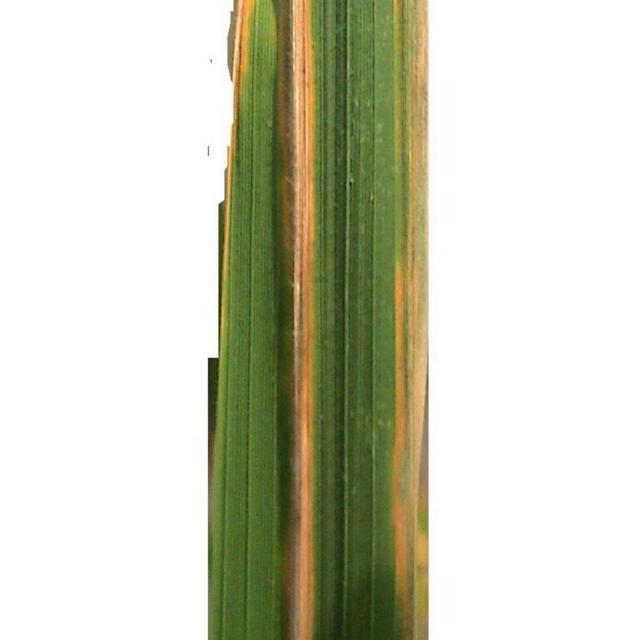leaf blight: (198, 1, 440, 640)
